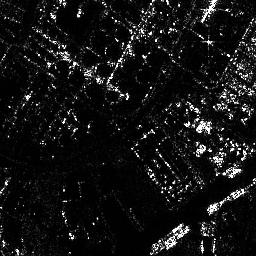ship: (151, 221, 185, 249)
